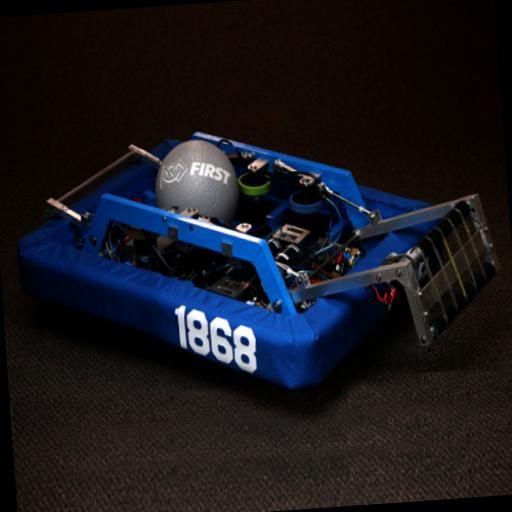robot: (2, 87, 510, 406)
